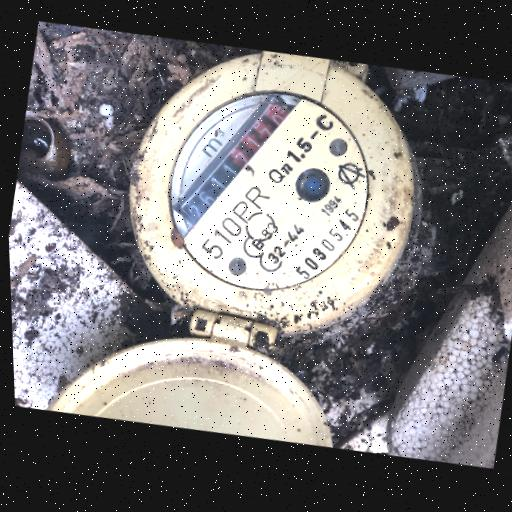0: (256, 95, 292, 132)
1: (211, 152, 244, 185), (200, 167, 233, 198), (236, 127, 267, 158)
2: (173, 191, 210, 229)
6: (188, 179, 221, 211), (245, 113, 277, 145)
7: (224, 139, 256, 171)
border_water_meter_number: (162, 74, 300, 242)
